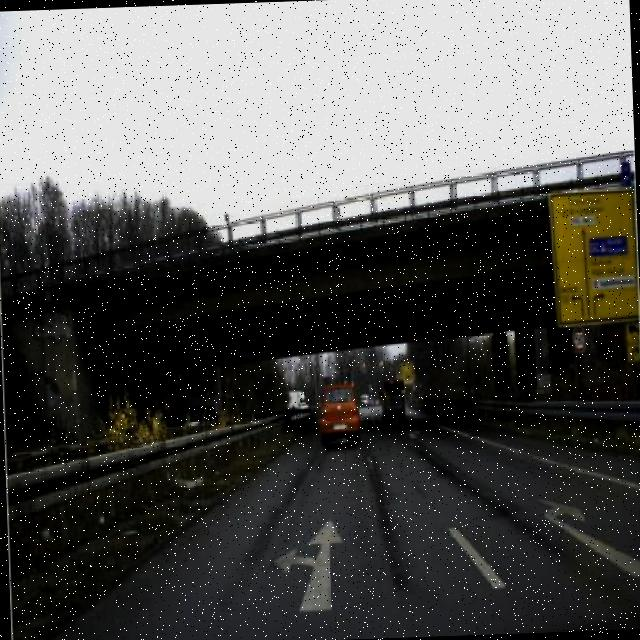Ograniczenie predkosci do 50: (568, 322, 589, 358)
